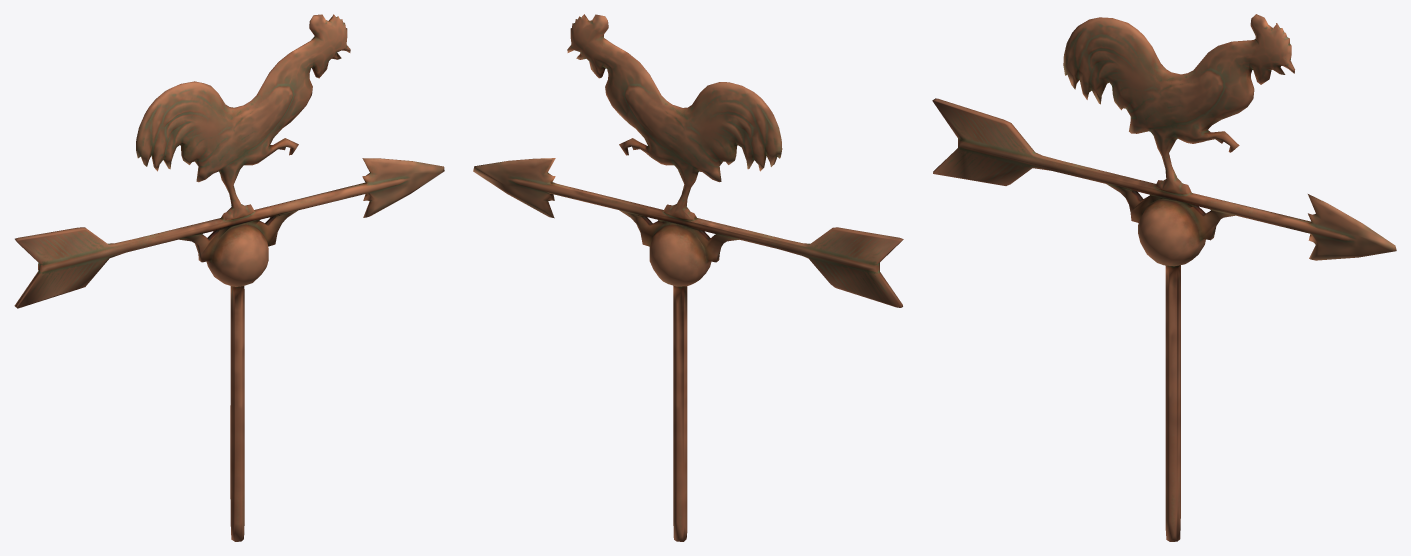
The model's file is weathervane.fbx.
3 views of the same model, side by side, from view 1: azimuth 30°, elevation 25°; view 2: azimuth 150°, elevation 25°; view 3: azimuth 330°, elevation 25° (orthographic). The views are drawn at different scales.
Parts seen in each view (by area): view 1: low; view 2: low; view 3: low.
Part boxes in pixels (x1,y1,x2,y2): low: (14, 14, 444, 541); low: (473, 14, 903, 541); low: (932, 14, 1396, 541).
Size of the model in its own units: 1.91 by 2.15 by 0.2412.
